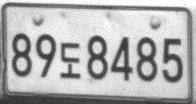4: (109, 34, 133, 80)
5: (162, 38, 184, 83)
8: (86, 34, 109, 80), (136, 36, 159, 82), (11, 32, 32, 77)
9: (34, 33, 57, 78)
도: (59, 41, 82, 79)
